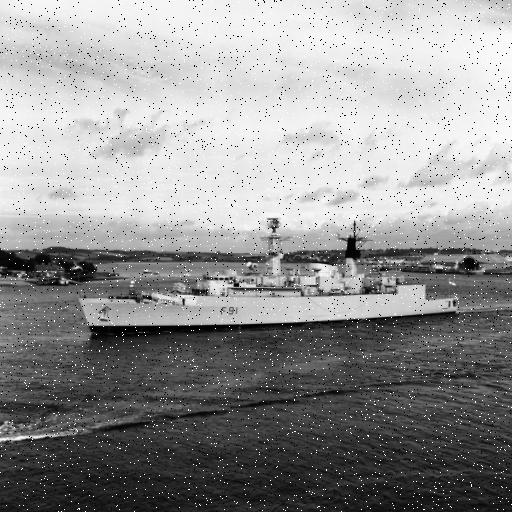Fragata: (73, 211, 461, 343)
